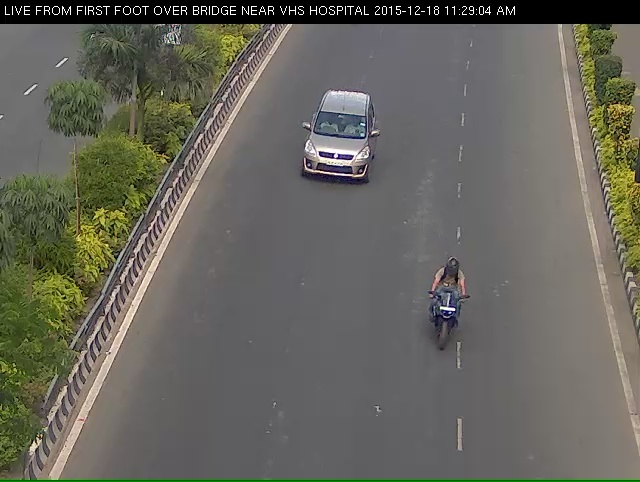Car: (289, 91, 380, 206)
Person: (420, 275, 472, 388)
